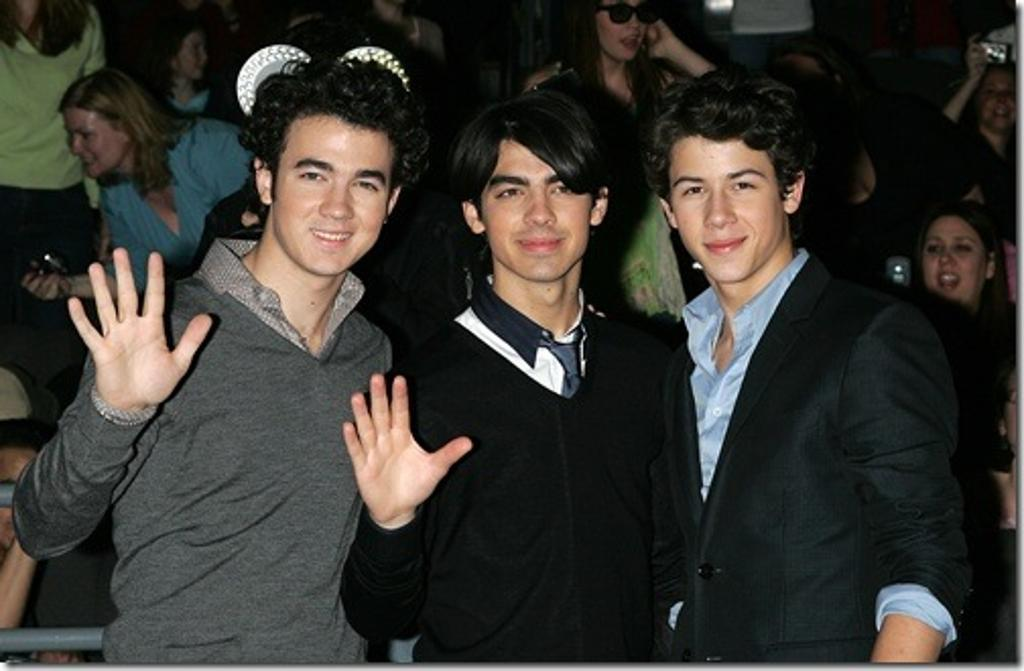face: (273, 114, 389, 276), (670, 138, 783, 285), (480, 135, 591, 282), (922, 218, 985, 308), (64, 104, 129, 178), (2, 445, 45, 552), (594, 0, 649, 60), (974, 70, 1015, 129), (175, 31, 207, 80)
